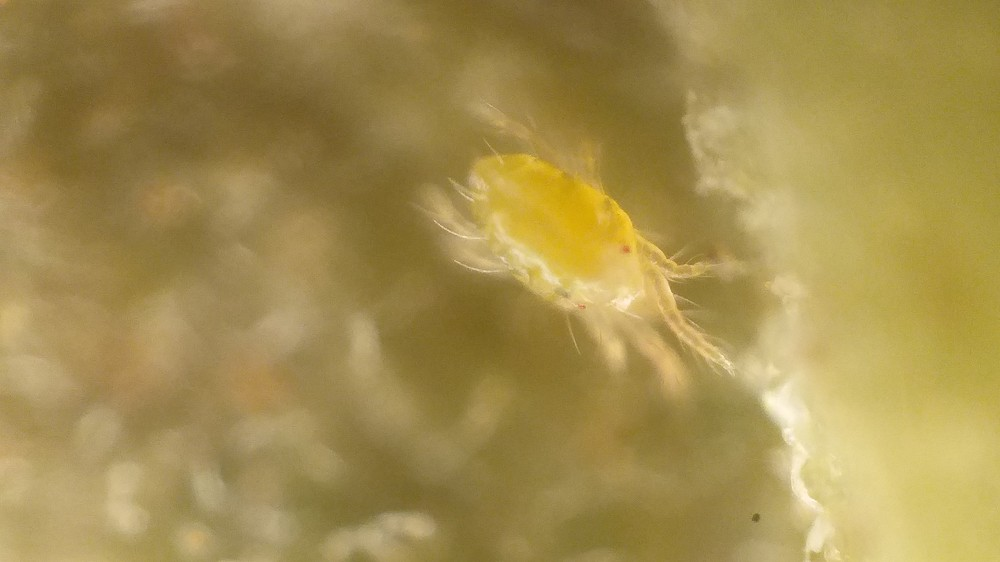Aracnido Rojo: (402, 89, 793, 436)
